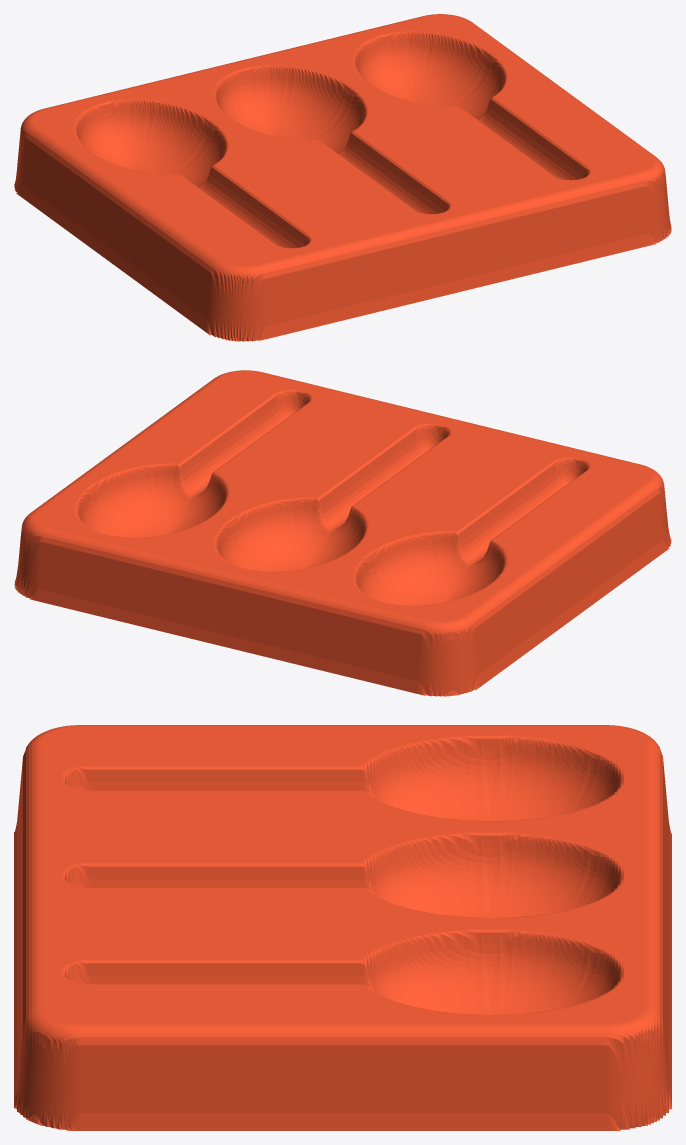
The model's file is mold.glb.
The picture shows the model from 3 angles, top to bottom: view 1: azimuth 30°, elevation 25°; view 2: azimuth 150°, elevation 25°; view 3: azimuth 270°, elevation 25°; orthographic projection. The views are drawn at different scales.
Visible parts, largest first — view 1: geometry_0; view 2: geometry_0; view 3: geometry_0.
Part boxes in pixels (box(x1,y1,x2,y2)): geometry_0: box(14, 14, 671, 341); geometry_0: box(14, 370, 671, 696); geometry_0: box(14, 725, 671, 1130).
Size of the model in its own units: 0.1043 by 0.0145 by 0.0906.
